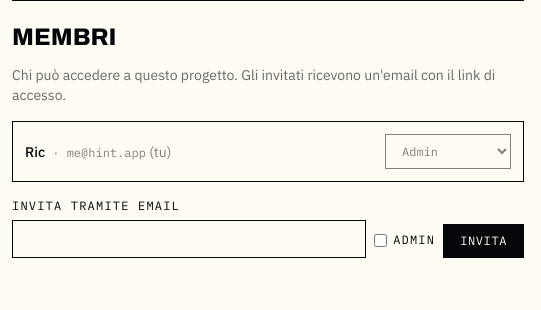
Test: MembersSection › invites with email + admin flag for the project and reports the invite
Type "new@hint.app" into the field labelled "Invita tramite email". click: (189, 239)
box: [12,220,366,258]
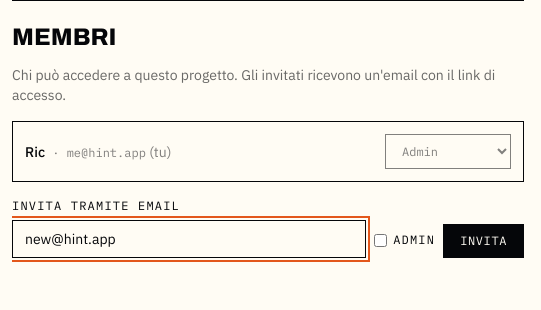
Click the checkbox labelled "Admin". click: click(381, 240)
box: [374,234,387,246]
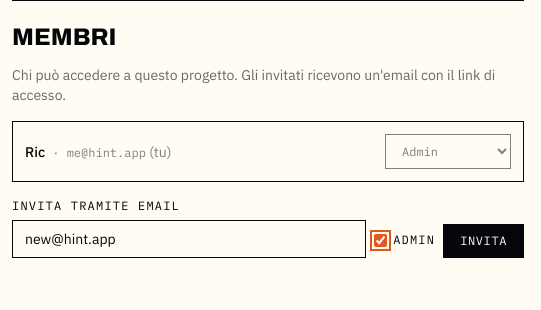
Click the button "Invita". click: click(484, 241)
box: [443,224,524,258]
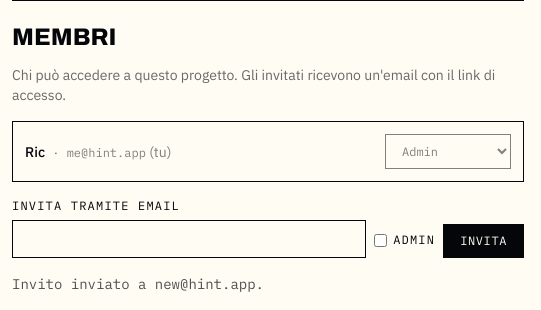
Expected: the message reads "Invito inviato a new@hint.app.", [12,275,264,293]
